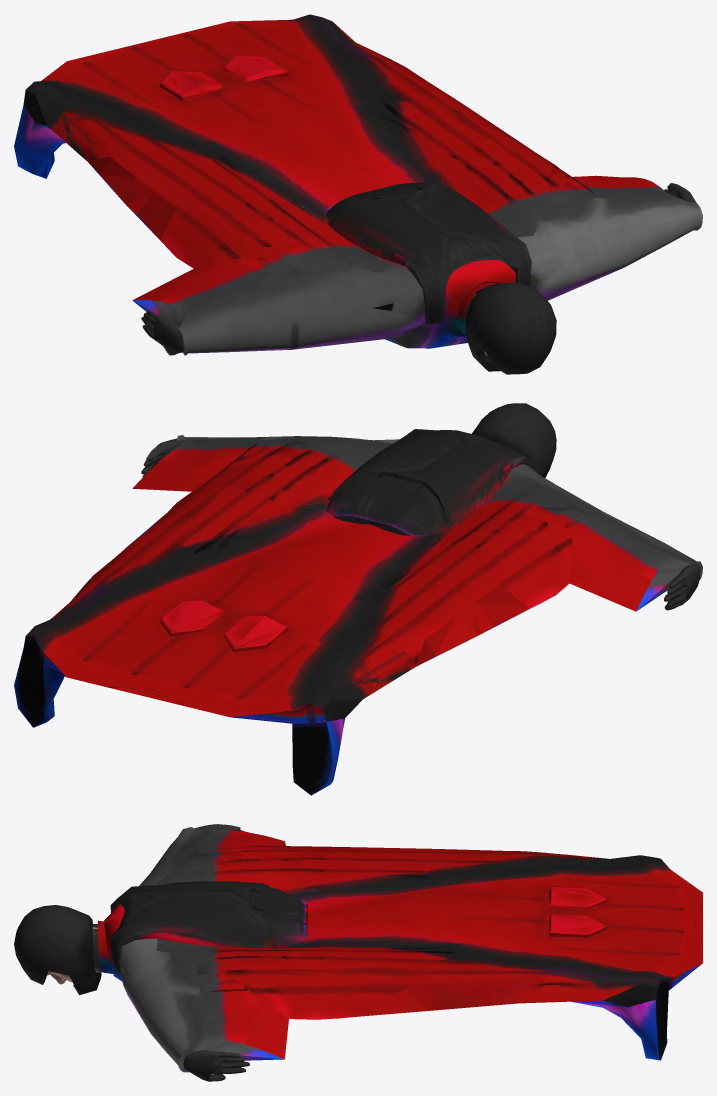
The model's file is WSV9.glb.
The picture shows the model from 3 angles, top to bottom: view 1: azimuth 30°, elevation 25°; view 2: azimuth 150°, elevation 25°; view 3: azimuth 270°, elevation 25°; orthographic projection. The views are drawn at different scales.
Parts seen in each view (by area): view 1: WS_V3; view 2: WS_V3; view 3: WS_V3.
Boxes of the visible parts, x1=… form: WS_V3: x1=14, y1=14, x2=702, y2=374; WS_V3: x1=14, y1=403, x2=702, y2=795; WS_V3: x1=14, y1=824, x2=702, y2=1081.
Bounding box in the file's own units: 2.82 × 0.6055 × 3.55.
Materials: 1 (1 with a texture image).
